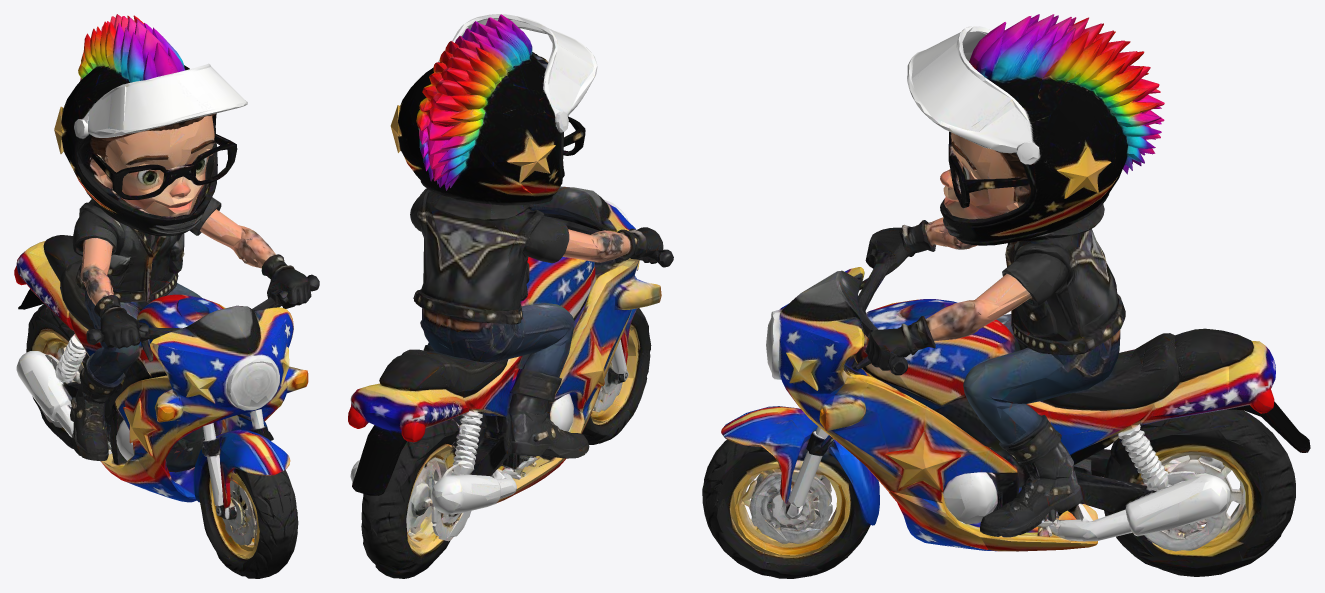
Rendered from ethan.glb.
3 renders of one model, left to right at view 1: azimuth 30°, elevation 25°; view 2: azimuth 150°, elevation 25°; view 3: azimuth 270°, elevation 25°, orthographic. The views are drawn at different scales.
Size of the model in its own units: 0.9718 by 1.9 by 1.86.
1 material, 1 textured.
